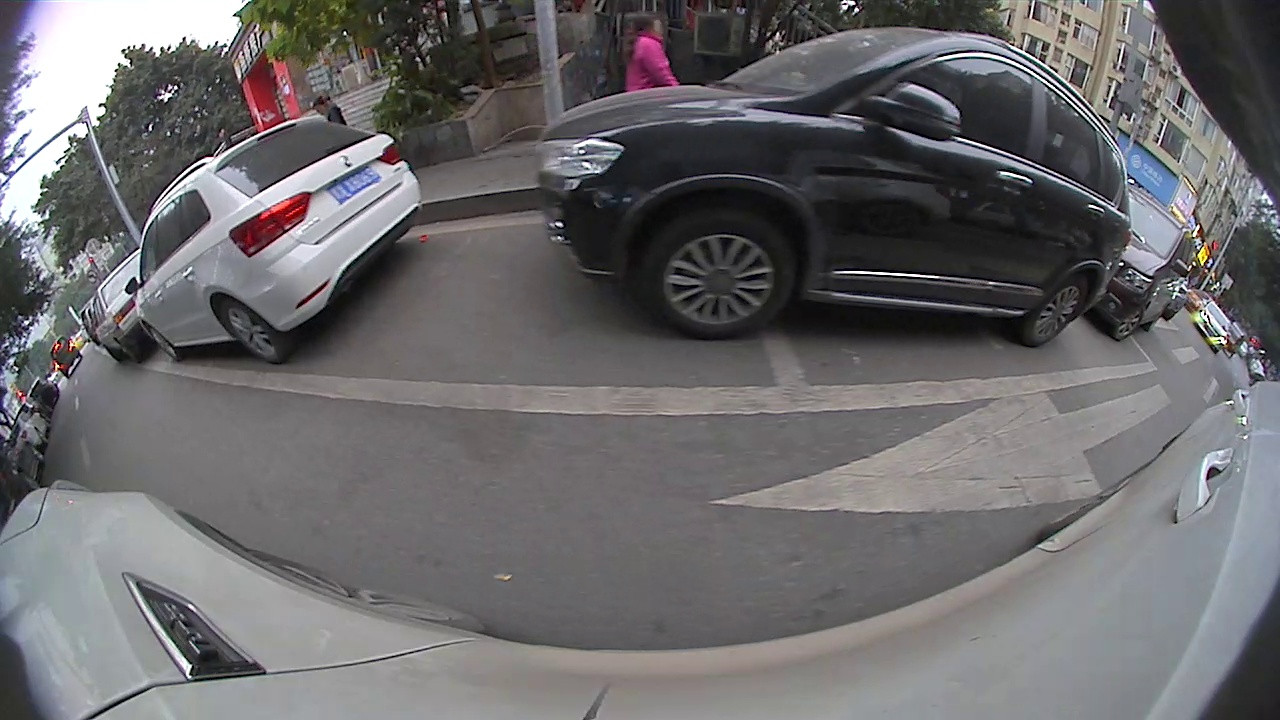car: (530, 25, 1137, 353), (127, 113, 426, 369), (1085, 181, 1200, 344), (90, 244, 170, 367)
front: (647, 211, 799, 342), (1115, 305, 1148, 340)
person: (623, 5, 677, 97)
rear: (1031, 271, 1093, 348), (217, 300, 289, 365)
